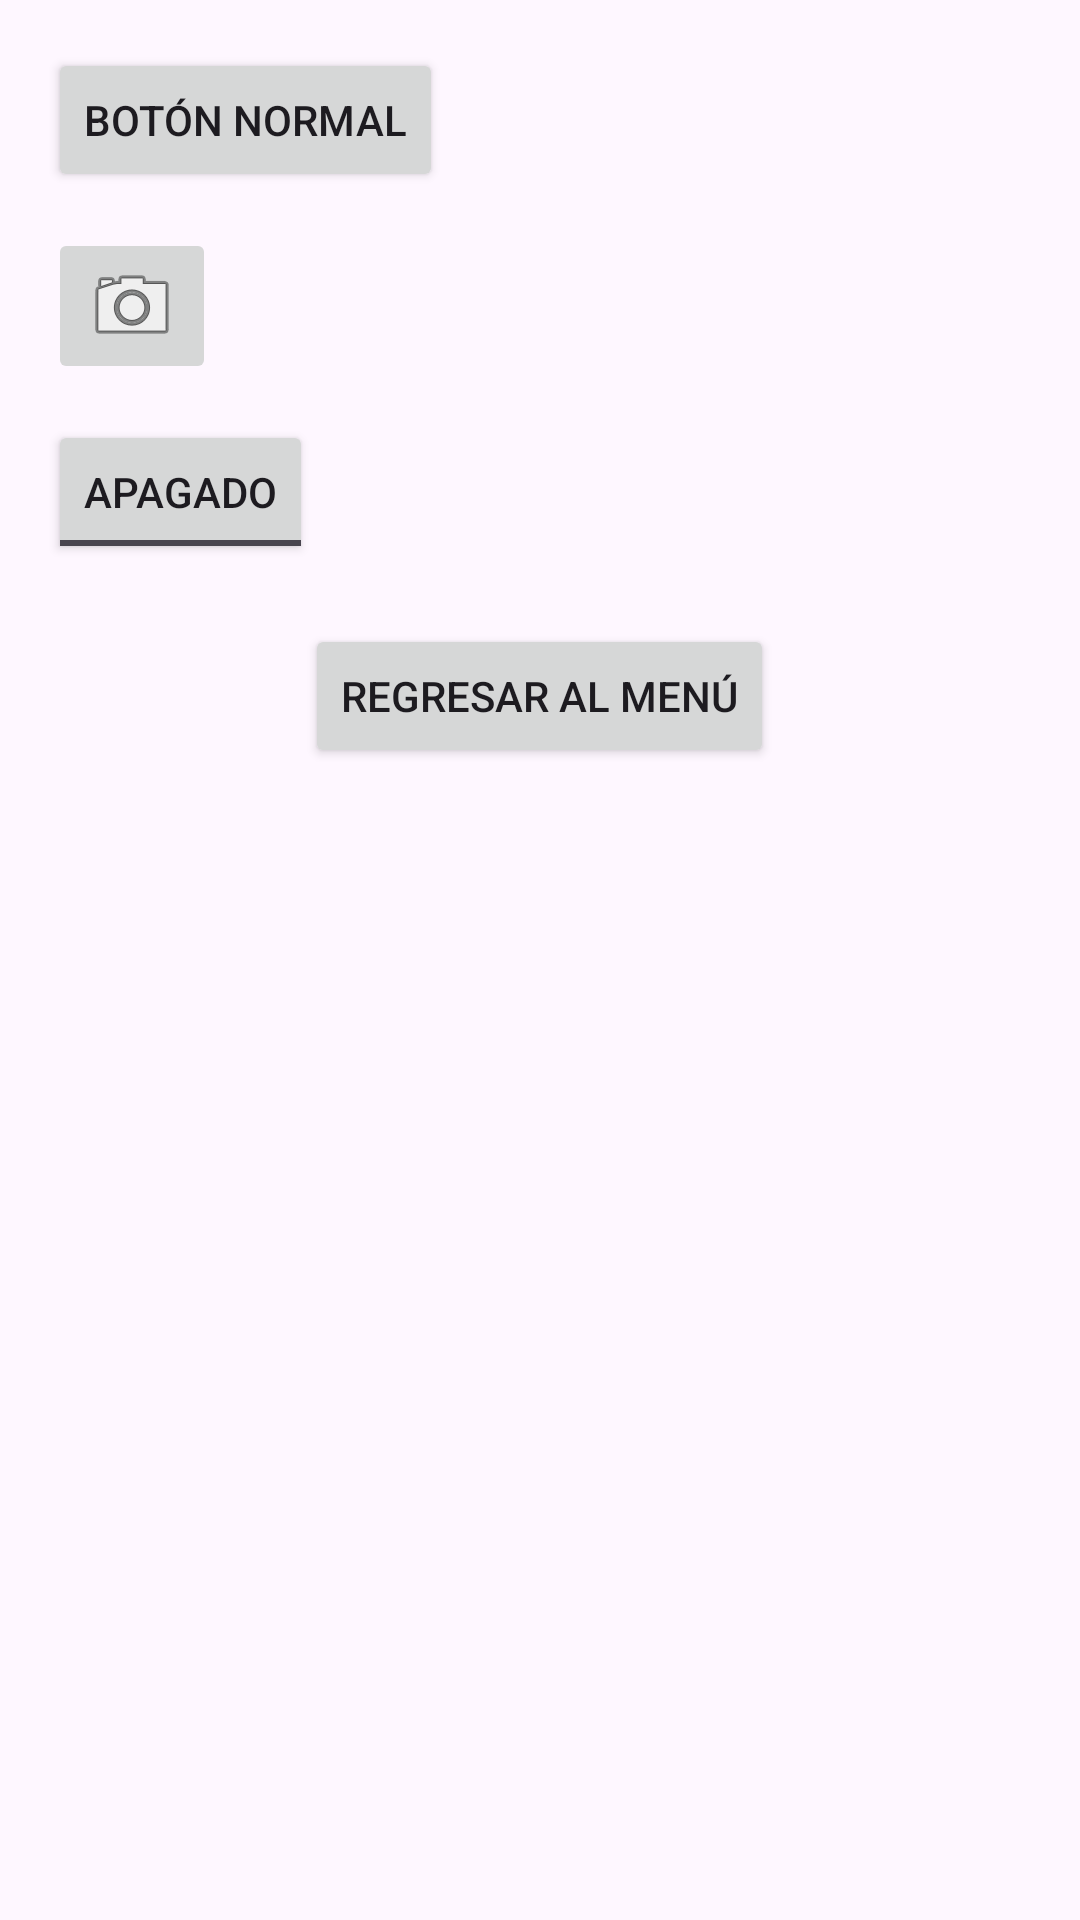

Locate icon controls on the screen. Image size 1080×1920, boxes as {"left": x1, "top": y1, "right": x2, "bottom": y2}.
Botón Imagen: {"left": 60, "top": 246, "right": 204, "bottom": 366}
